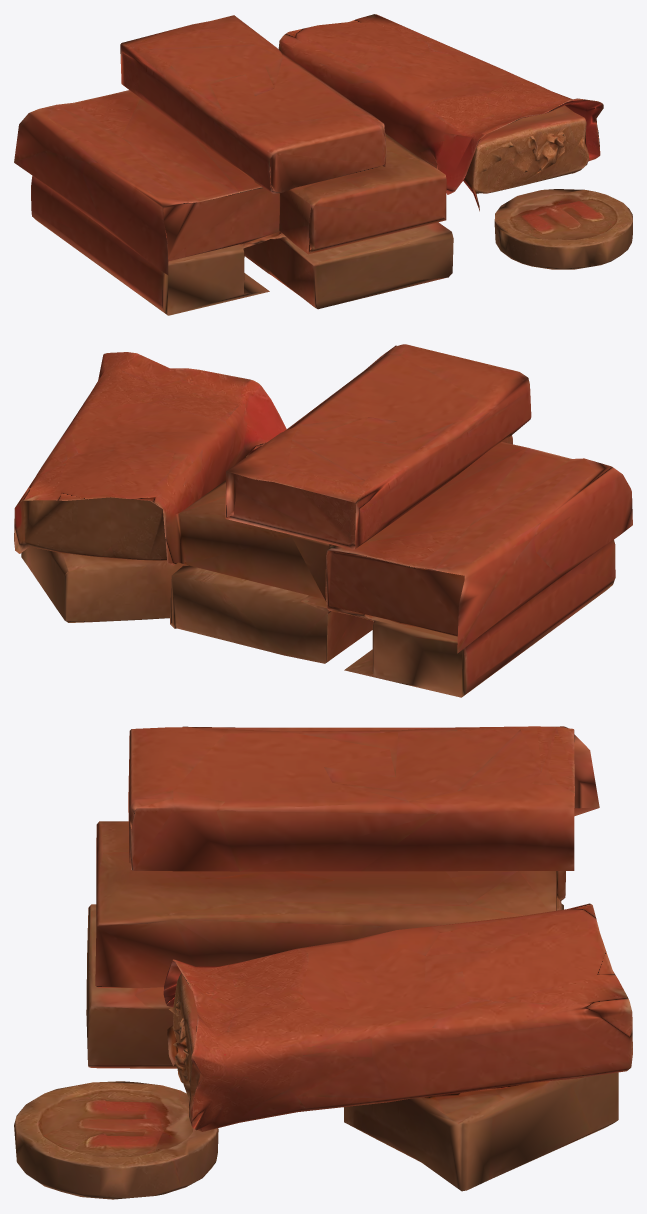
Rendered from token-chocolate.glb.
The picture shows the model from 3 angles, top to bottom: view 1: azimuth 30°, elevation 25°; view 2: azimuth 150°, elevation 25°; view 3: azimuth 270°, elevation 25°; orthographic projection. The views are drawn at different scales.
Size of the model in its own units: 1.9 by 0.6411 by 1.54.
1 material, 1 textured.
